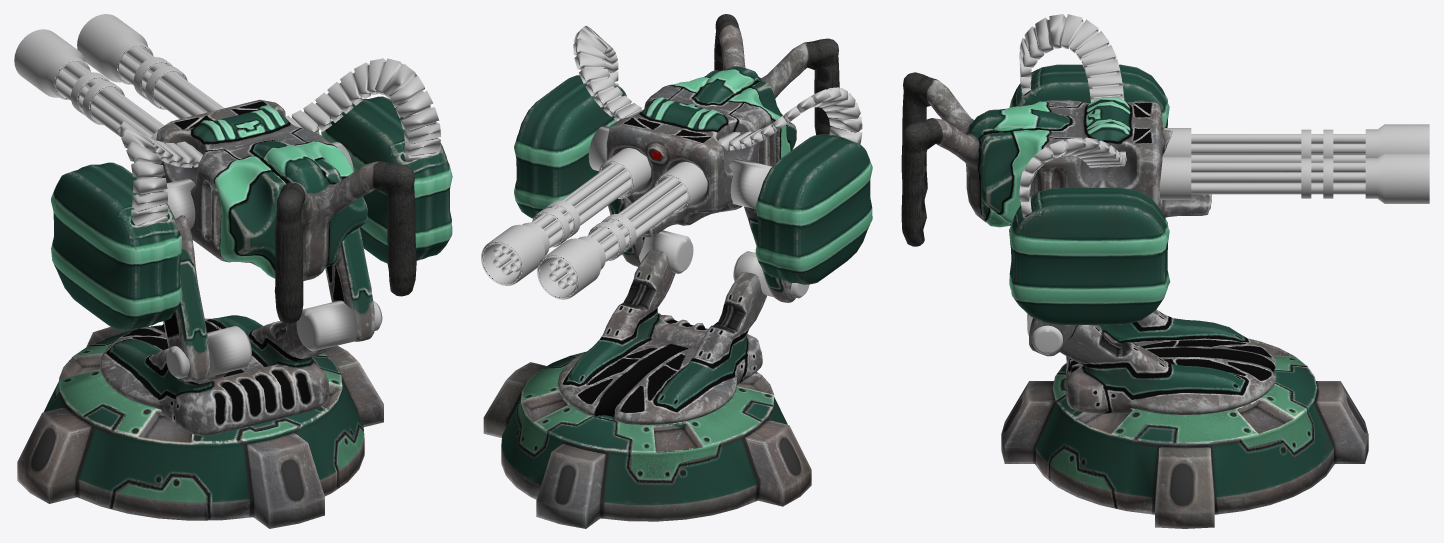
The model's file is sentry.fbx.
3 views of the same model, side by side, from view 1: azimuth 30°, elevation 25°; view 2: azimuth 150°, elevation 25°; view 3: azimuth 270°, elevation 25° (orthographic). The views are drawn at different scales.
Visible parts, largest first — view 1: sentry; view 2: sentry; view 3: sentry.
Part boxes in pixels (<box>): sentry: <box>14,14,452,528</box>; sentry: <box>481,14,872,528</box>; sentry: <box>901,14,1429,528</box>.
Size of the model in its own units: 87.23 by 98.25 by 125.
